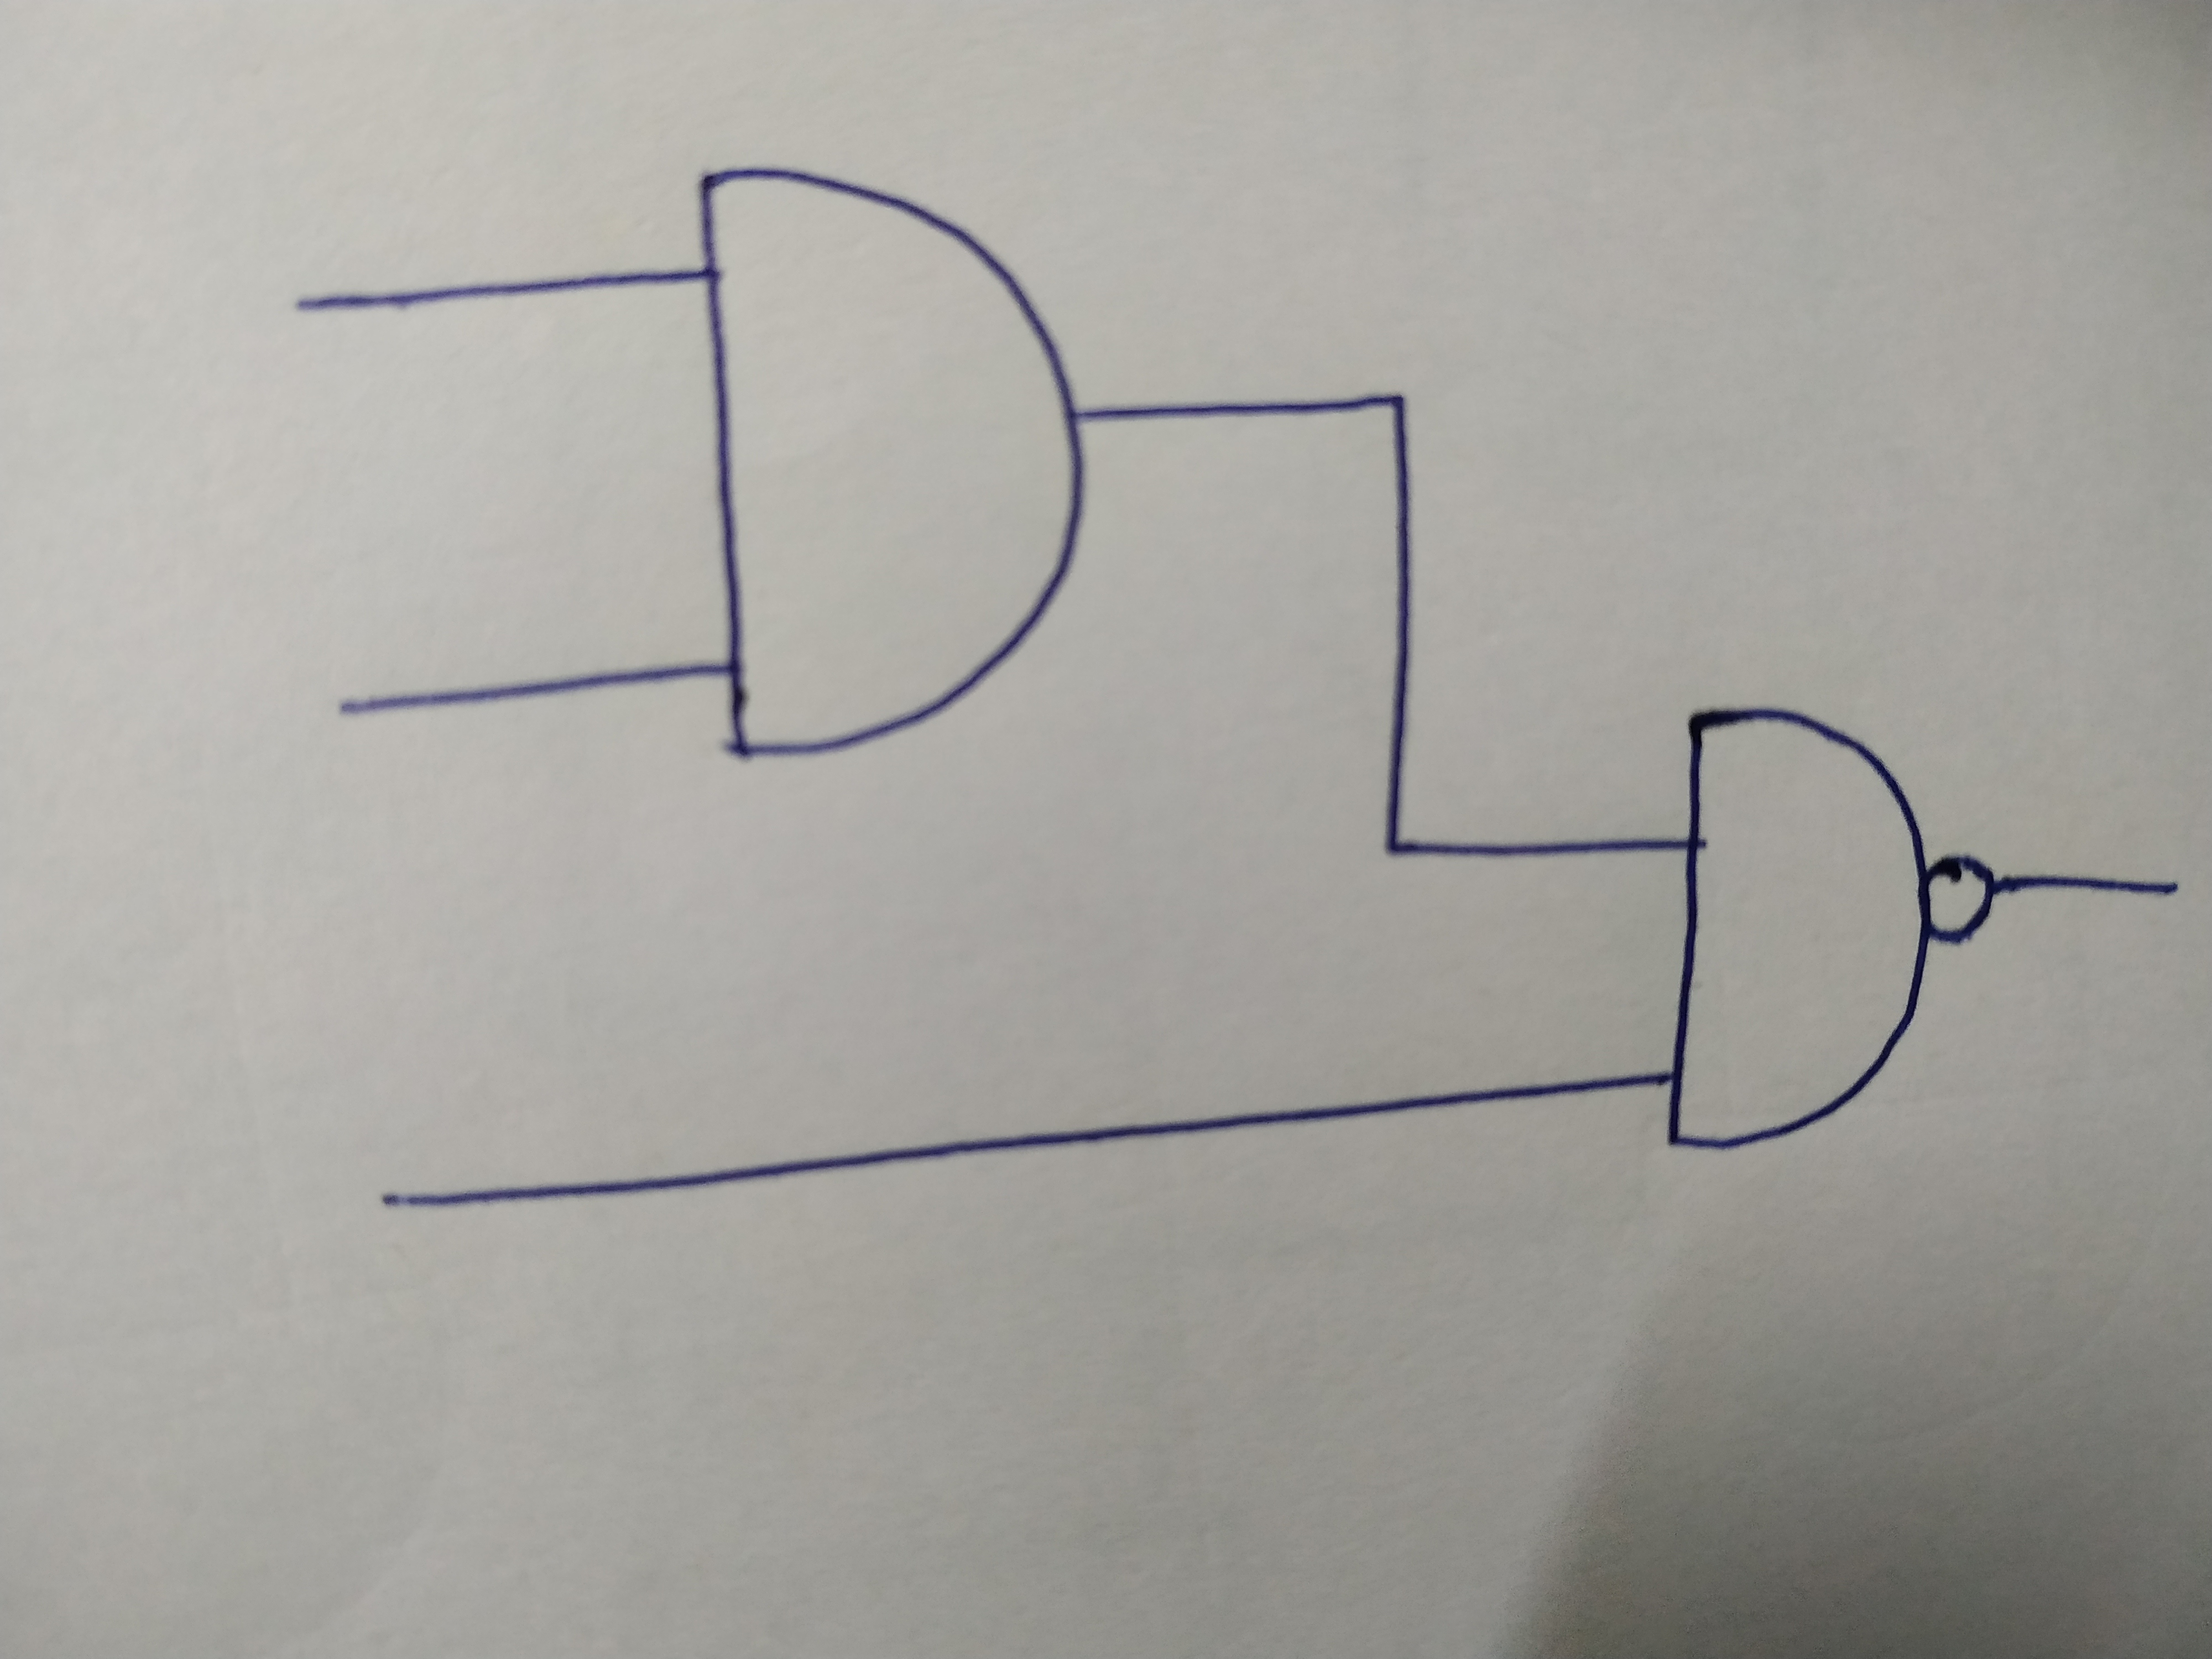and: (698, 167, 1099, 758), (1663, 701, 1932, 1154)
not: (1928, 852, 1989, 945)
